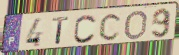4: (23, 17, 44, 48)
9: (152, 7, 173, 39)
C: (72, 14, 98, 45), (98, 12, 124, 42)
O: (123, 9, 149, 41)
T: (51, 16, 71, 46)
